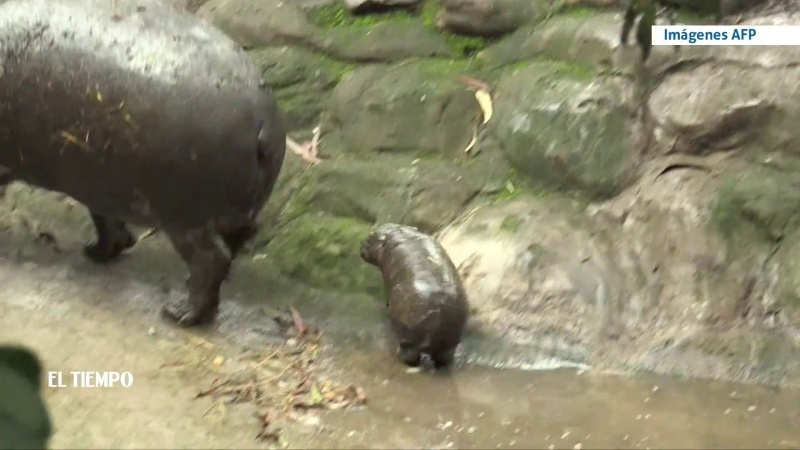hipopotamo: (1, 1, 301, 347), (347, 214, 499, 383)
